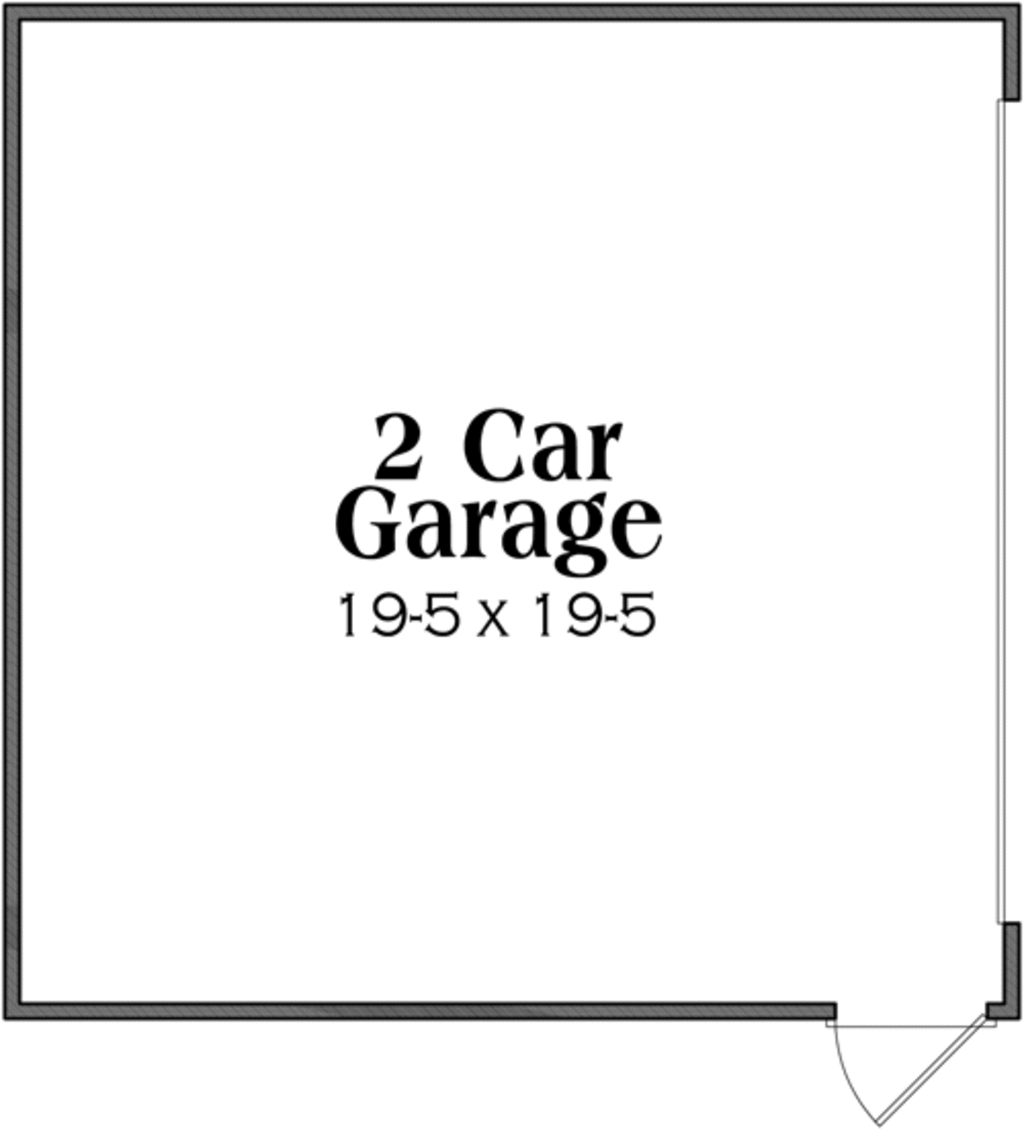door: (815, 982, 1012, 1130)
